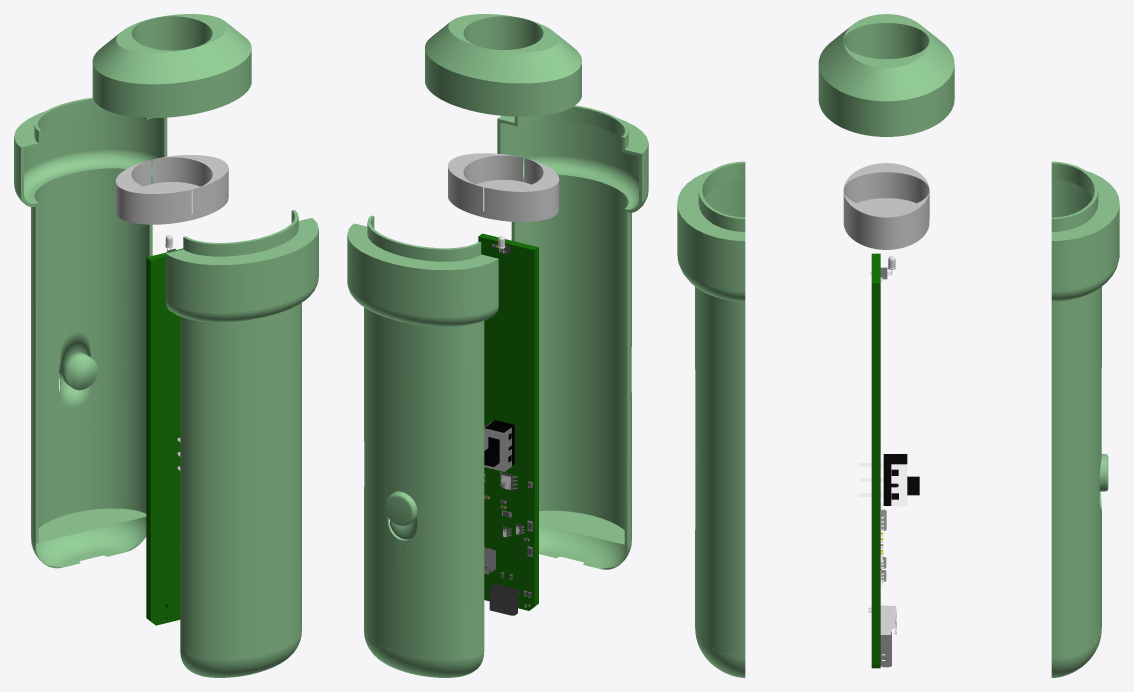
The picture shows the model from 3 angles, left to right: view 1: azimuth 30°, elevation 25°; view 2: azimuth 150°, elevation 25°; view 3: azimuth 270°, elevation 25°; orthographic projection. The views are drawn at different scales.
Parts seen in each view (by area): view 1: FACE_ARRIERE, FACE_AVANT, CHAPEAU_LOUPE, OBJ_PCB_PC_main, LOUPE, BOUTON; view 2: FACE_AVANT, FACE_ARRIERE, OBJ_PCB_PC_main, CHAPEAU_LOUPE, LOUPE, OBJ_PCB_PC_main.044, BOUTON, OBJ_PCB_PC_main.046; view 3: FACE_ARRIERE, FACE_AVANT, CHAPEAU_LOUPE, LOUPE, OBJ_PCB_PC_main, OBJ_PCB_PC_main.044.
Boxes of the visible parts, x1,y1,x2,y2 form: FACE_ARRIERE: (165,210,318,677); FACE_AVANT: (14,97,167,568); CHAPEAU_LOUPE: (92,14,251,117); OBJ_PCB_PC_main: (146,248,183,625); LOUPE: (115,155,228,224); BOUTON: (59,331,98,408); FACE_AVANT: (347,215,498,677); FACE_ARRIERE: (497,105,648,569); OBJ_PCB_PC_main: (478,233,538,610); CHAPEAU_LOUPE: (425,14,581,116); LOUPE: (448,153,559,221); OBJ_PCB_PC_main.044: (484,420,514,471); BOUTON: (384,491,417,539); OBJ_PCB_PC_main.046: (489,583,519,615); FACE_ARRIERE: (677,161,745,677); FACE_AVANT: (1051,161,1119,677); CHAPEAU_LOUPE: (818,14,954,136); LOUPE: (843,163,929,249); OBJ_PCB_PC_main: (871,253,880,668); OBJ_PCB_PC_main.044: (859,453,919,506).
Size of the model in its own units: 5.01 by 19.1 by 12.37.
